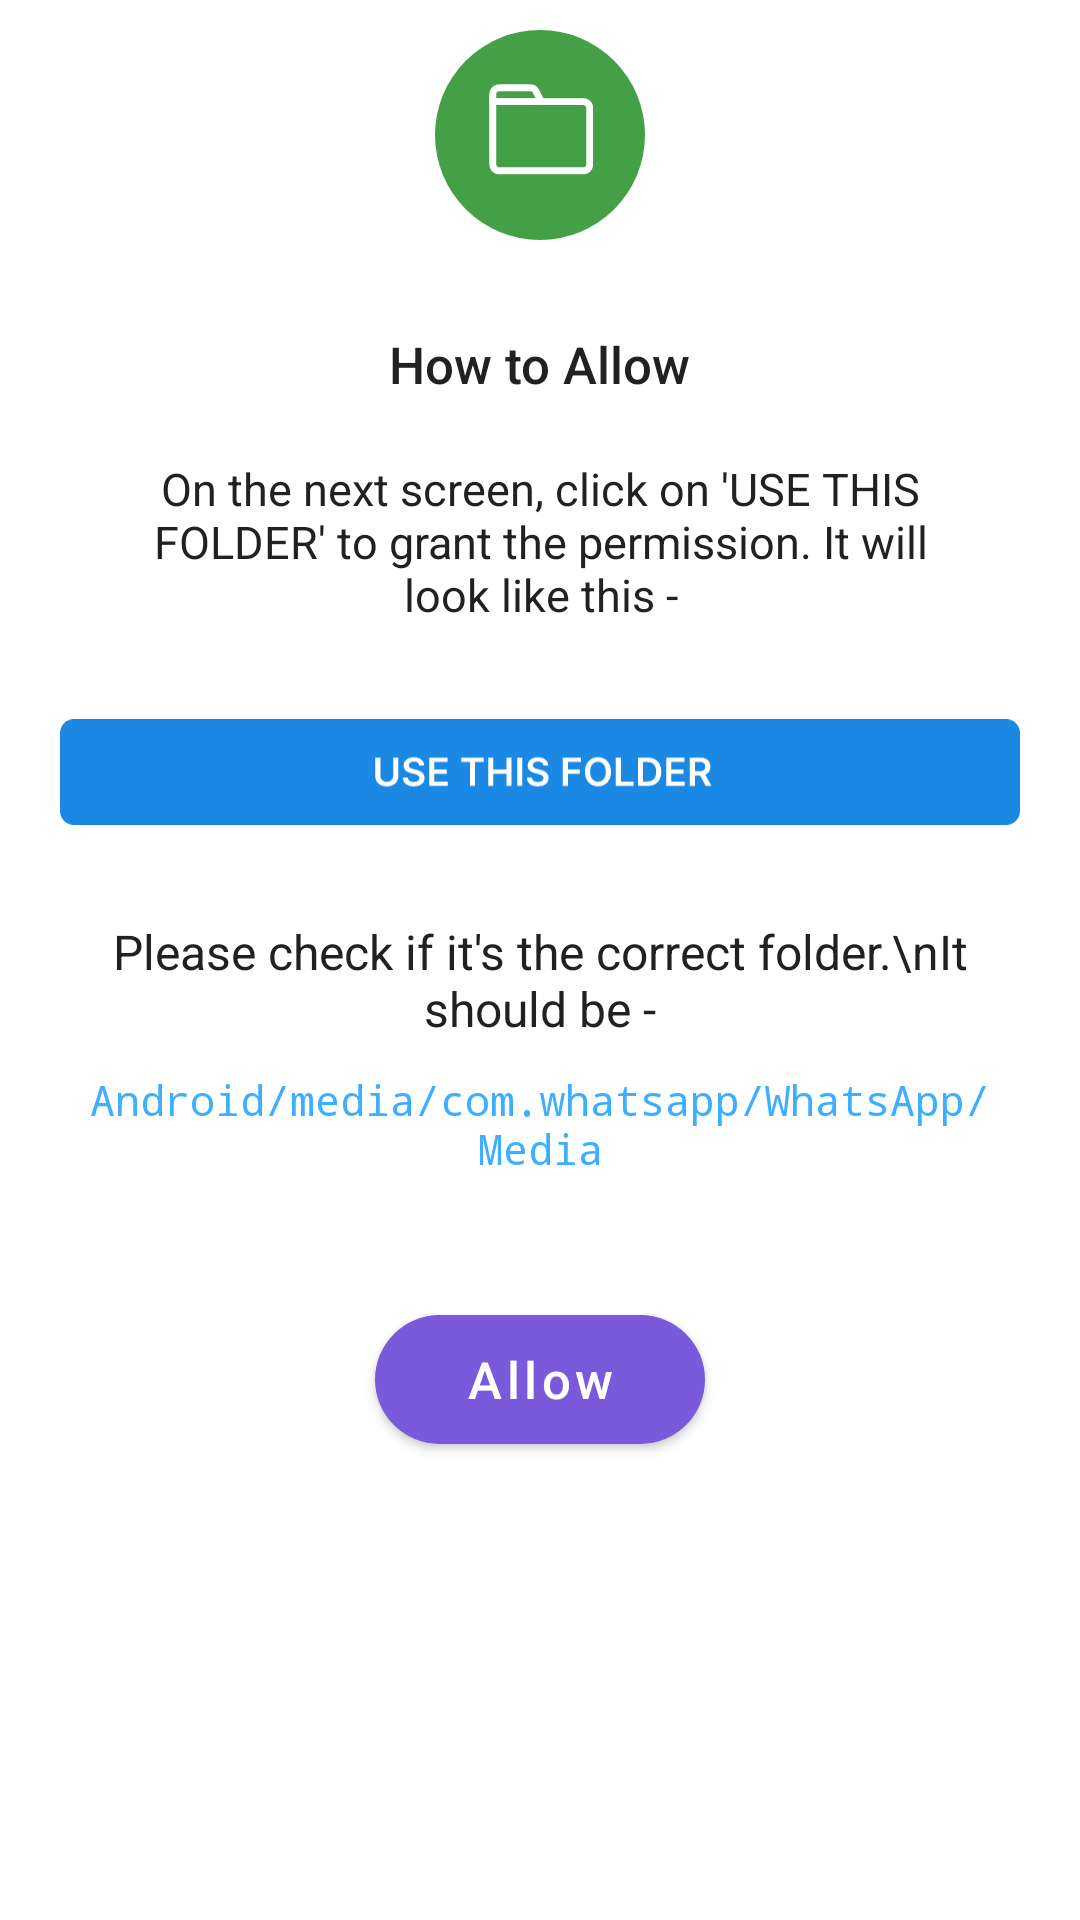

Named icons in this screenshot (1080×1920) and their centers, point (x, y):
permission storage: point (540, 135)
